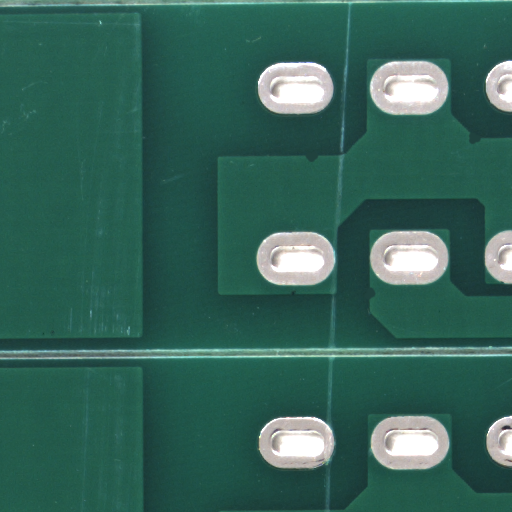Mouse_bite: (474, 138, 488, 151), (372, 295, 379, 309), (312, 158, 325, 165)
